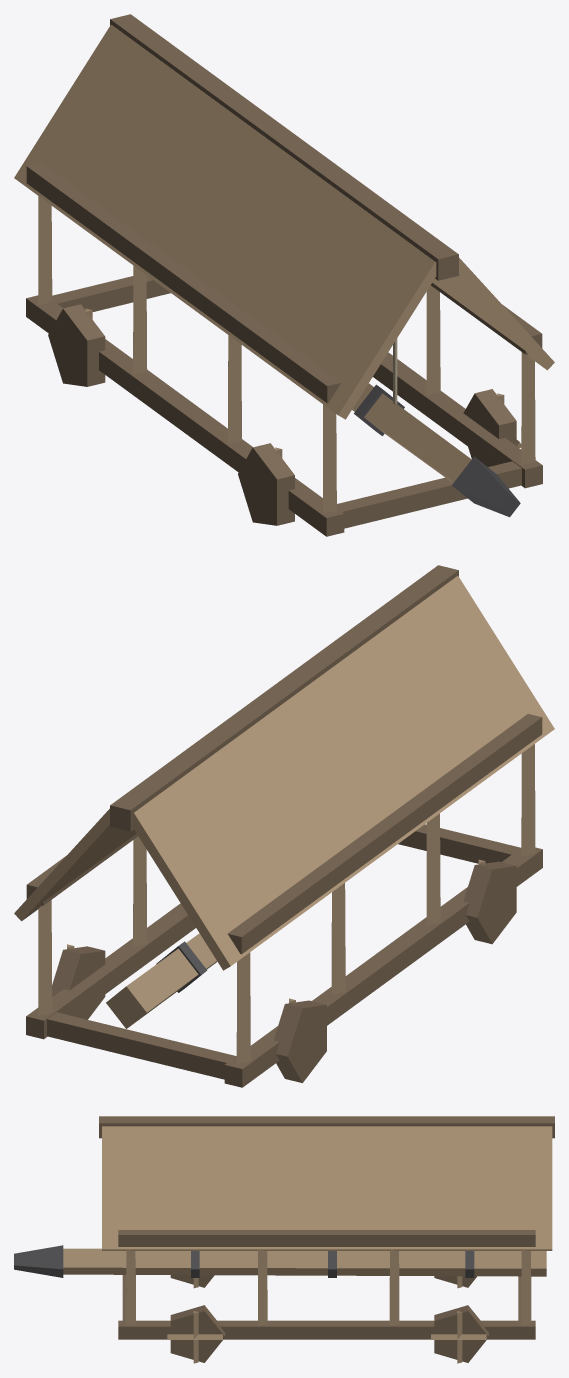
The model's file is ram_lod.glb.
3 renders of one model, top to bottom at view 1: azimuth 30°, elevation 25°; view 2: azimuth 150°, elevation 25°; view 3: azimuth 270°, elevation 25°, orthographic. The views are drawn at different scales.
Parts seen in each view (by area): view 1: Shed, Beam, Wheel_0, Wheel_2, Wheel_3; view 2: Shed, Beam, Wheel_2, Wheel_0, Wheel_1; view 3: Shed, Beam, Wheel_3, Wheel_1, Wheel_2.
Part boxes in pixels (bbox=[...]): Shed: bbox=[14, 14, 554, 536]; Beam: bbox=[352, 338, 520, 517]; Wheel_0: bbox=[48, 304, 105, 386]; Wheel_2: bbox=[238, 443, 294, 525]; Wheel_3: bbox=[463, 389, 521, 466]; Shed: bbox=[14, 565, 554, 1087]; Beam: bbox=[106, 933, 217, 1028]; Wheel_2: bbox=[463, 859, 516, 944]; Wheel_0: bbox=[274, 998, 326, 1082]; Wheel_1: bbox=[52, 944, 105, 1019]; Shed: bbox=[99, 1116, 554, 1339]; Beam: bbox=[14, 1245, 546, 1277]; Wheel_3: bbox=[167, 1305, 225, 1363]; Wheel_1: bbox=[431, 1305, 488, 1363]; Wheel_2: bbox=[170, 1275, 214, 1288].
Size of the model in its own units: 3.56 by 4.07 by 9.85.
